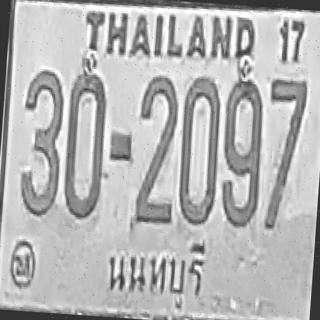N00: (61, 65, 110, 220), (175, 74, 223, 226)
N02: (134, 74, 180, 204), (130, 104, 178, 225)
N03: (16, 68, 66, 218)
N07: (261, 76, 308, 225), (262, 77, 308, 201), (263, 76, 308, 188)
N09: (218, 77, 266, 228)
P37: (99, 232, 215, 313)
